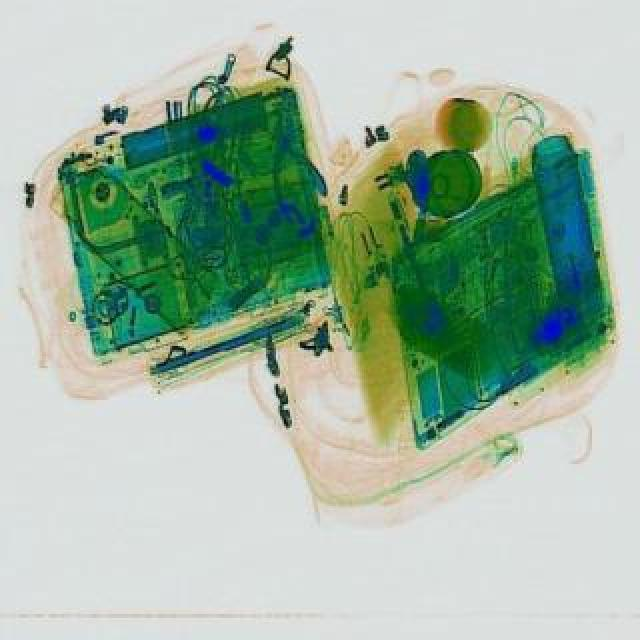wrench: (256, 114, 330, 210)
